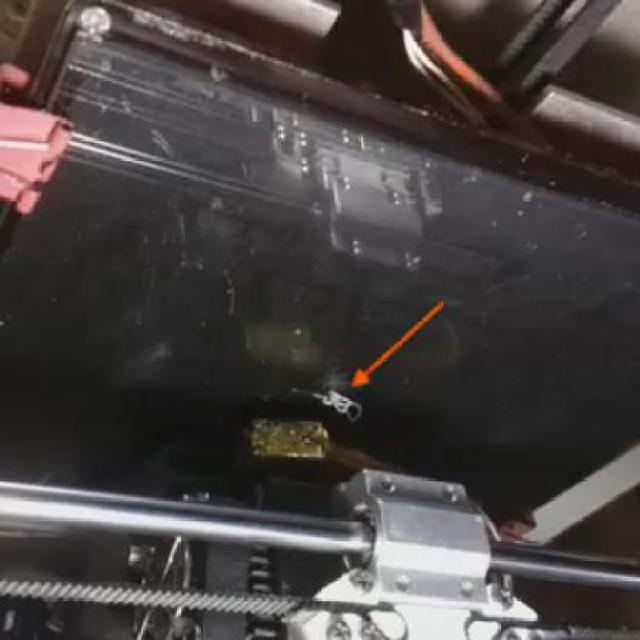Spaghetti: (310, 386, 364, 426)
